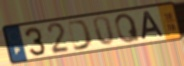0: (92, 15, 116, 48)
2: (46, 22, 72, 55)
3: (24, 26, 47, 57)
A: (141, 10, 166, 41)
D: (66, 18, 94, 53)
Q: (113, 12, 142, 45)
